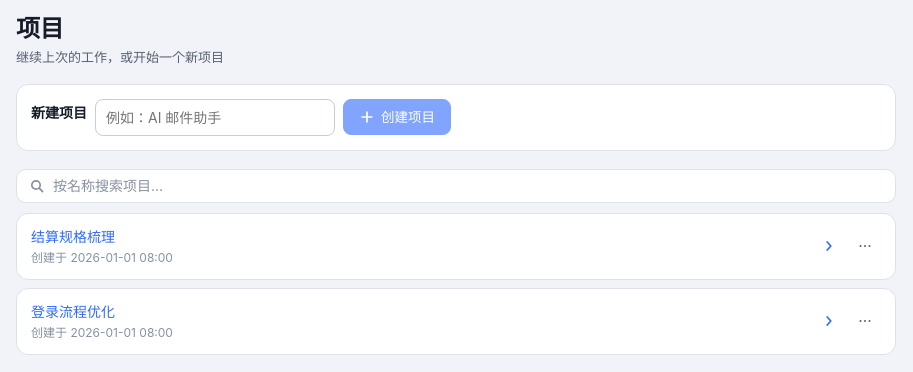
Test: ProjectsView › sends the query to the backend and reflects the filtered result
Type "登录" into the field with test id "project-search". click: [454, 186]
box: x1=53 y1=168 x2=855 y2=202
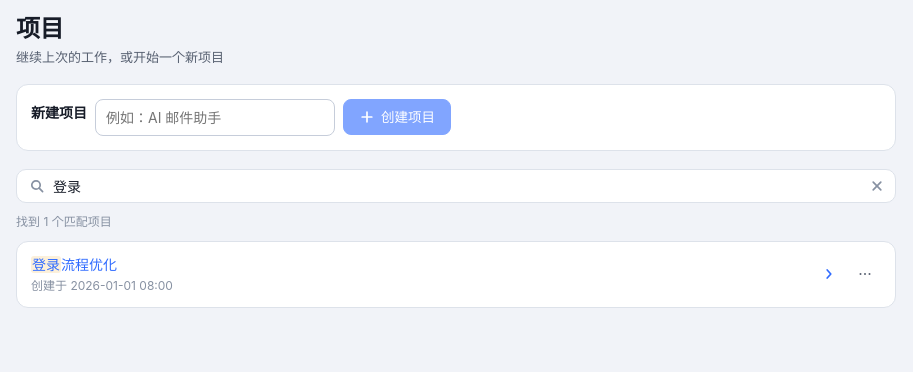
expect the text "结算规格梳理" is gone: met
